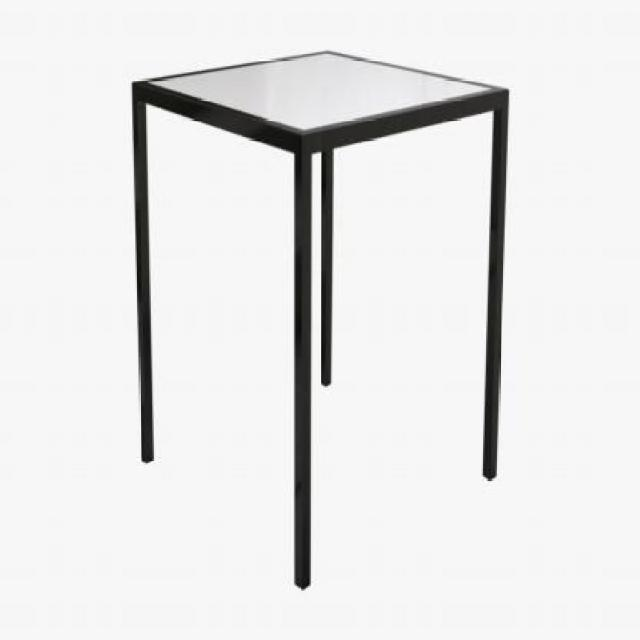table: (121, 46, 508, 591)
